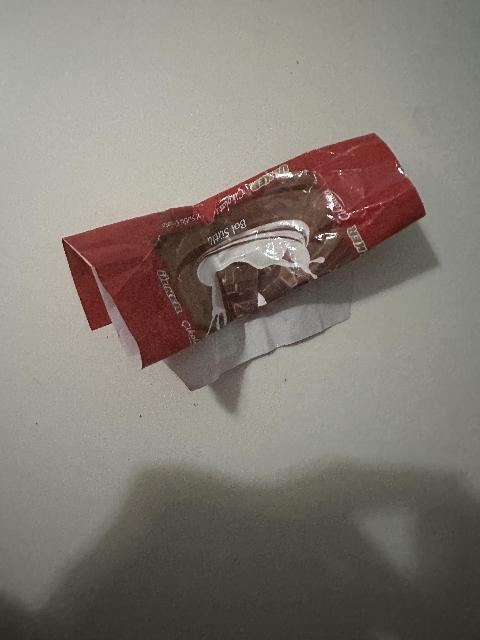Plastik: (59, 116, 429, 394)
